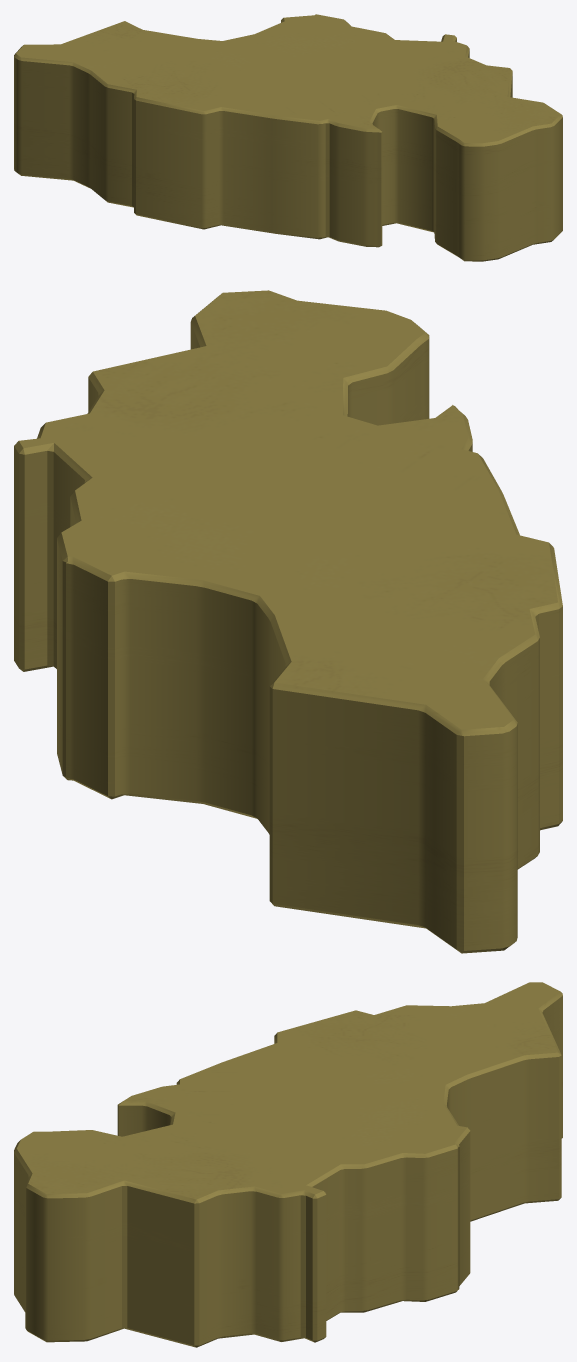
The model's file is yugoslavia.DAE.
3 renders of one model, top to bottom at view 1: azimuth 30°, elevation 25°; view 2: azimuth 150°, elevation 25°; view 3: azimuth 270°, elevation 25°, orthographic. The views are drawn at different scales.
Parts seen in each view (by area): view 1: Yugoslavia; view 2: Yugoslavia; view 3: Yugoslavia.
Boxes of the visible parts, x1,y1,x2,y2 form: Yugoslavia: (14, 14, 562, 261); Yugoslavia: (14, 290, 562, 953); Yugoslavia: (14, 982, 562, 1347).
Bounding box in the file's own units: 79.52 × 83.96 × 25.
1 material, 1 textured.
